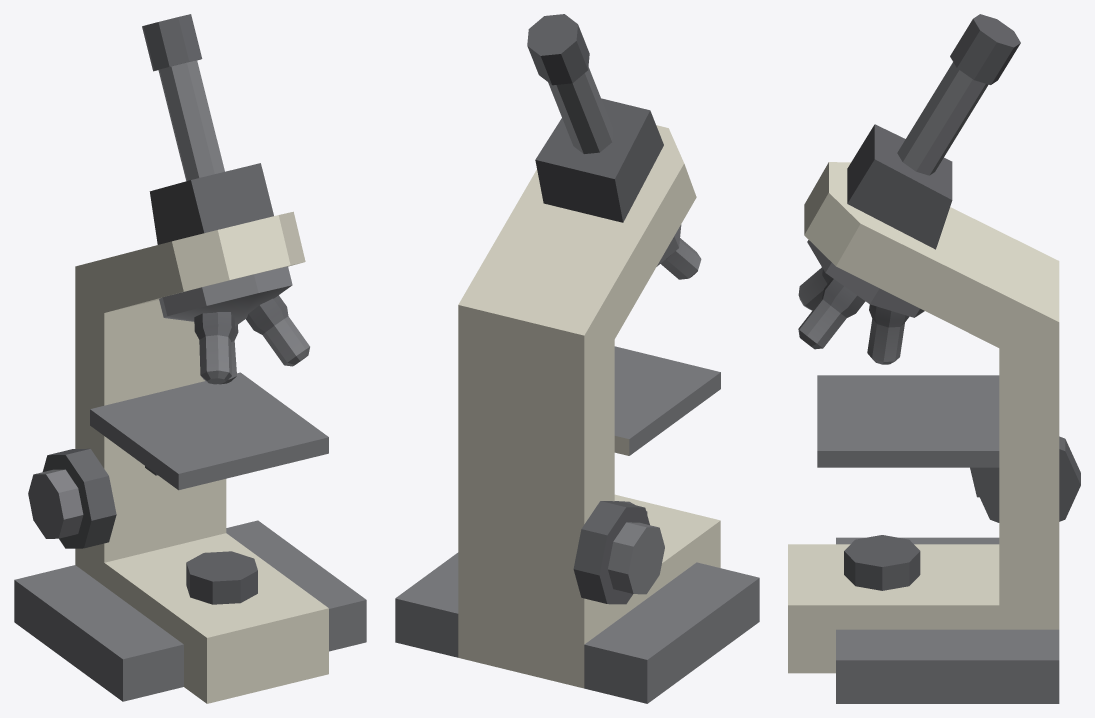
Rendered from microscope.fbx.
3 views of the same model, side by side, from view 1: azimuth 30°, elevation 25°; view 2: azimuth 150°, elevation 25°; view 3: azimuth 270°, elevation 25° (orthographic). The views are drawn at different scales.
Parts seen in each view (by area): view 1: microscope; view 2: microscope; view 3: microscope.
Boxes of the visible parts, x1,y1,x2,y2 form: microscope: (14,14,366,703); microscope: (395,14,759,703); microscope: (788,14,1080,703).
Bounding box in the file's own units: 22.32 × 53.05 × 22.57.
